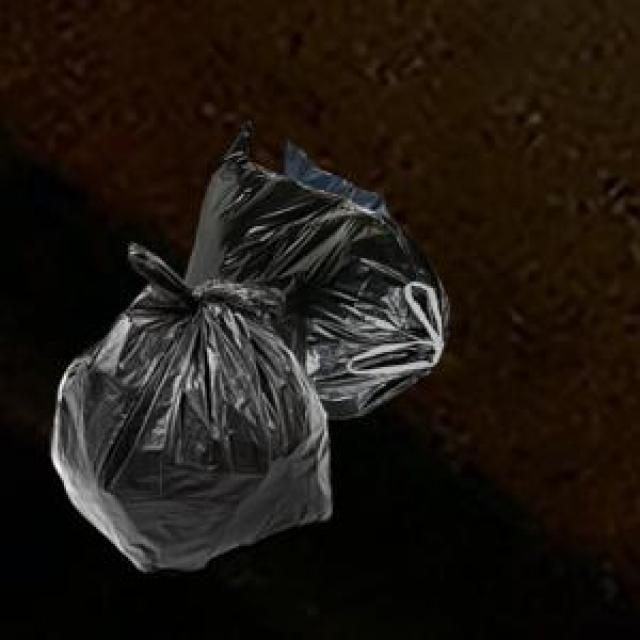Vinyl: (52, 126, 449, 571)
